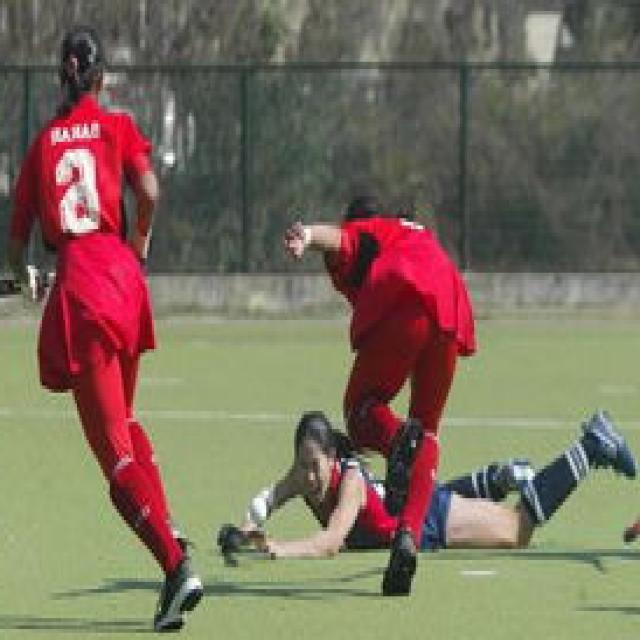nofight: (5, 0, 164, 593), (293, 182, 476, 600)
